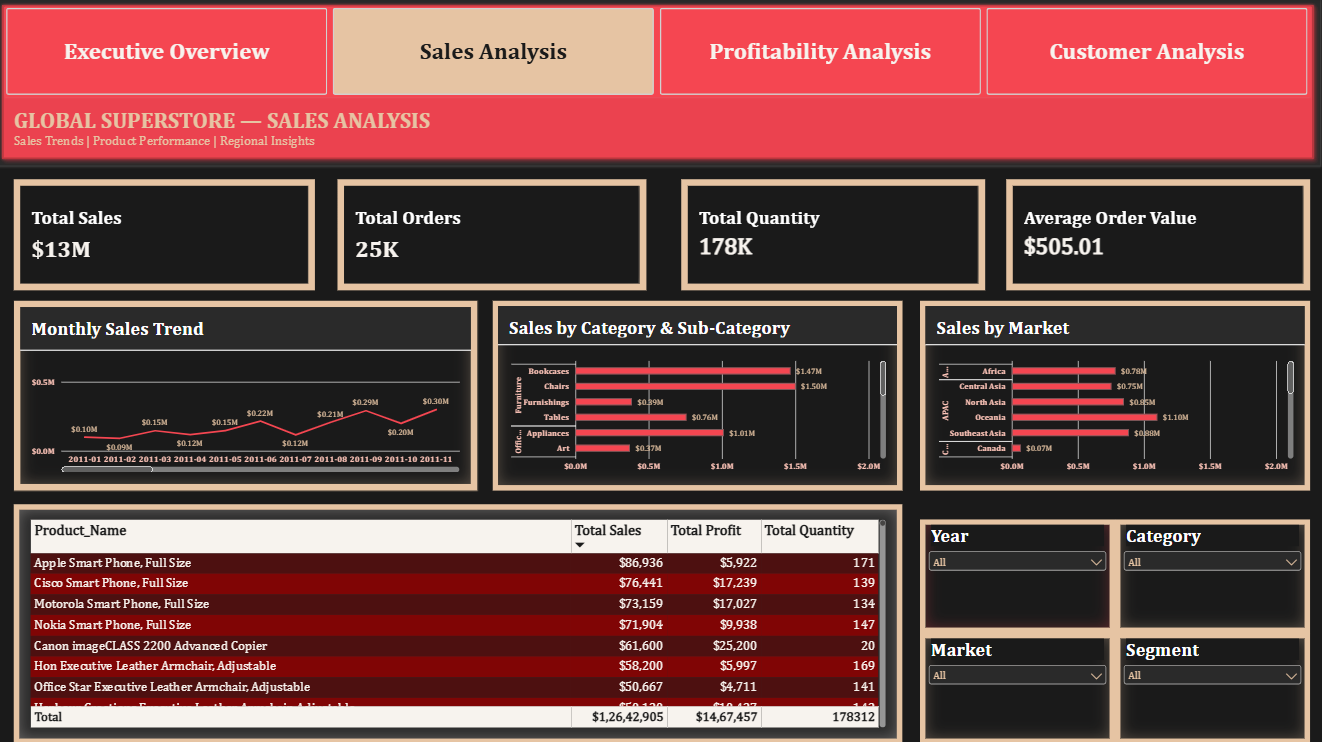

Layout of this report page (visuals, bound fields, positions):
{"tool":"powerbi","page":{"name":"Sales Analysis","canvas":[1920,1080],"ordinal":1},"visuals":[{"type":"shape","box":[0,0,1920.1,244.3],"z":0},{"type":"textbox","box":[27.1,157.4,1876.6,70.6],"z":1000},{"type":"cardVisual","fields":{"Data":["FactSales.Total Sales"]},"box":[27.1,262.4,436.1,161.1],"z":2000},{"type":"cardVisual","fields":{"Data":["FactSales.Total Quantity"]},"box":[993.5,262.4,439.7,161.1],"z":3000},{"type":"cardVisual","fields":{"Data":["FactSales.Average Order Value"]},"box":[1464,262.4,439.7,161.1],"z":4000},{"type":"cardVisual","fields":{"Data":["FactSales.Total Orders"]},"box":[495.8,262.4,447,161.1],"z":5000},{"type":"lineChart","title":"Monthly Sales Trend","fields":{"Category":["DimDate.Year Month"],"Y":["FactSales.Total Sales"]},"box":[27.1,437.9,671.4,275.1],"z":6000},{"type":"clusteredBarChart","title":"Sales by Category & Sub-Category","fields":{"Category":["DimProduct.Category","DimProduct.Sub_Category"],"Y":["FactSales.Total Sales"]},"box":[720.2,437.9,593.6,275.1],"z":7000},{"type":"clusteredBarChart","title":"Sales by Market","fields":{"Category":["FactSales.Market","FactSales.Region"],"Y":["FactSales.Total Sales"]},"box":[1339.1,437.9,564.6,275.1],"z":8000},{"type":"tableEx","fields":{"Values":["DimProduct.Product_Name","FactSales.Total Sales","FactSales.Total Profit","FactSales.Total Quantity"]},"box":[27.1,732.9,1286.7,347.5],"z":9000},{"type":"slicer","fields":{"Values":["DimDate.Year"]},"box":[1339.1,754.6,282.3,164.7],"z":10000},{"type":"slicer","fields":{"Values":["FactSales.Market"]},"box":[1339.1,919.3,282.3,161.1],"z":11000},{"type":"slicer","fields":{"Values":["DimProduct.Category"]},"box":[1621.5,754.6,282.3,164.7],"z":12000},{"type":"slicer","fields":{"Values":["FactSales.Segment"]},"box":[1621.5,919.3,282.3,161.1],"z":13000},{"type":"pageNavigator","box":[14.5,12.7,1889.3,130.3],"z":13001}]}

Visuals, with their boxes in screenshot pixels (x1, y1, x2, y2), scaled from the page's 1920x1080 canvas onto the 1322x742 screenshot:
shape: bbox=(0, 0, 1321, 168)
textbox: bbox=(19, 108, 1311, 157)
cardVisual - FactSales.Total Sales: bbox=(19, 180, 319, 291)
cardVisual - FactSales.Total Quantity: bbox=(684, 180, 987, 291)
cardVisual - FactSales.Average Order Value: bbox=(1008, 180, 1311, 291)
cardVisual - FactSales.Total Orders: bbox=(341, 180, 649, 291)
"Monthly Sales Trend" lineChart: bbox=(19, 301, 481, 490)
"Sales by Category & Sub-Category" clusteredBarChart: bbox=(496, 301, 905, 490)
"Sales by Market" clusteredBarChart: bbox=(922, 301, 1311, 490)
tableEx - DimProduct.Product_Name x FactSales.Total Sales: bbox=(19, 504, 905, 741)
slicer - DimDate.Year: bbox=(922, 518, 1116, 632)
slicer - FactSales.Market: bbox=(922, 632, 1116, 741)
slicer - DimProduct.Category: bbox=(1116, 518, 1311, 632)
slicer - FactSales.Segment: bbox=(1116, 632, 1311, 741)
pageNavigator: bbox=(10, 9, 1311, 98)
